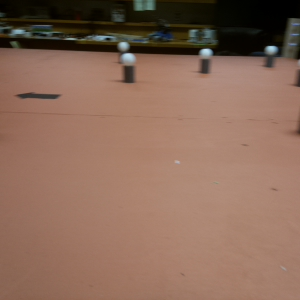obstacle: (122, 54, 136, 83), (200, 48, 211, 73), (266, 43, 277, 67), (119, 41, 130, 62)
